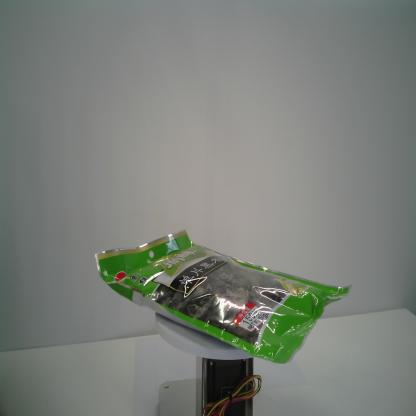Dried Food: (95, 230, 354, 364)
